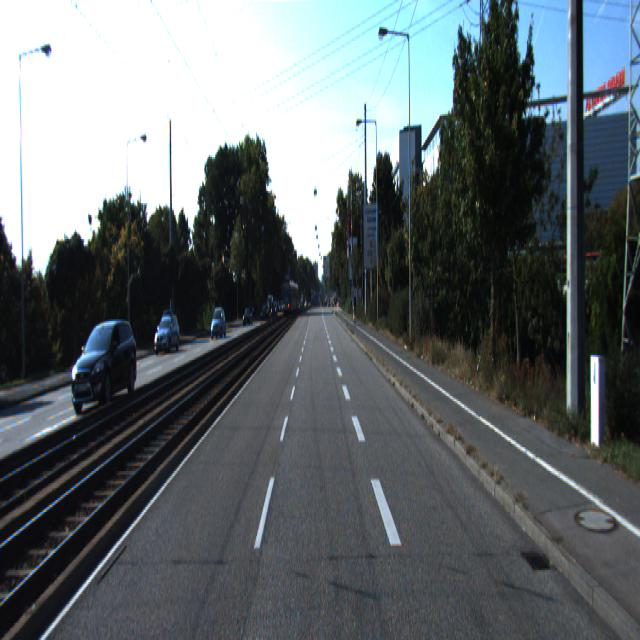Car: (70, 319, 140, 418), (153, 312, 181, 357), (210, 308, 227, 342)
